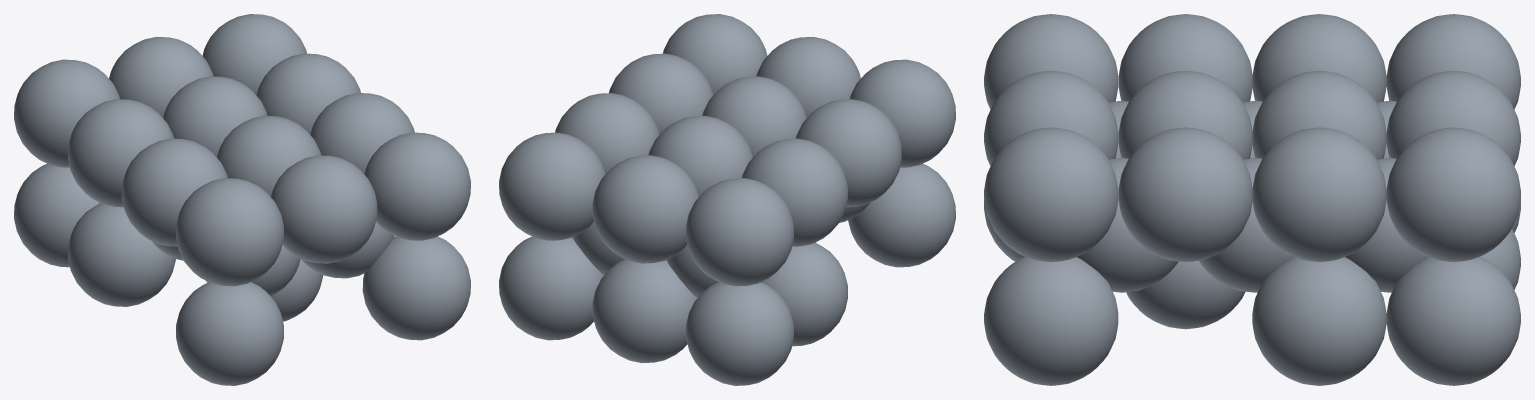
3 renders of one model, left to right at view 1: azimuth 30°, elevation 25°; view 2: azimuth 150°, elevation 25°; view 3: azimuth 270°, elevation 25°, orthographic. The views are drawn at different scales.
Parts seen in each view (by area): view 1: GeoSphere605; view 2: GeoSphere605; view 3: GeoSphere605.
Part boxes in pixels (bbox=[...]): GeoSphere605: bbox=[14, 14, 470, 385]; GeoSphere605: bbox=[499, 14, 955, 385]; GeoSphere605: bbox=[984, 14, 1520, 385].
Size of the model in its own units: 119 by 80.37 by 159.
Materials: 1 (1 with a texture image).
